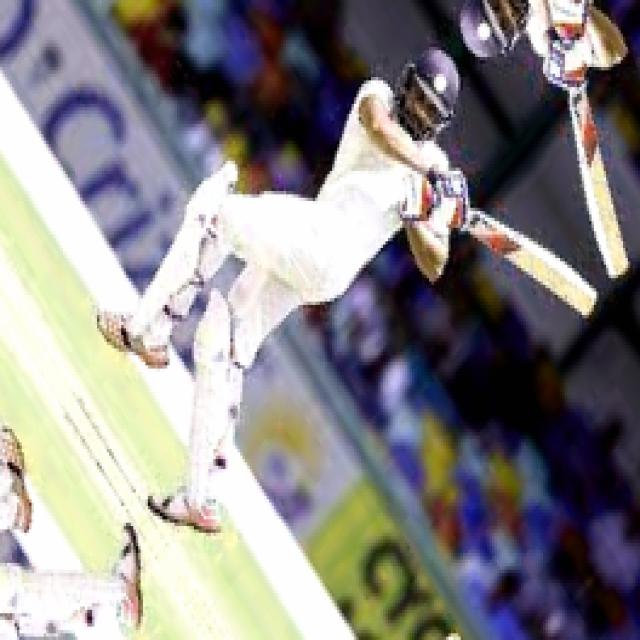toe: (576, 270, 598, 326)
